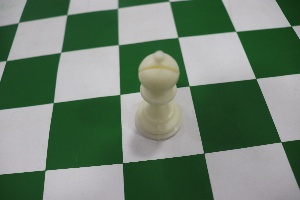white_bishop: (126, 38, 186, 147)
